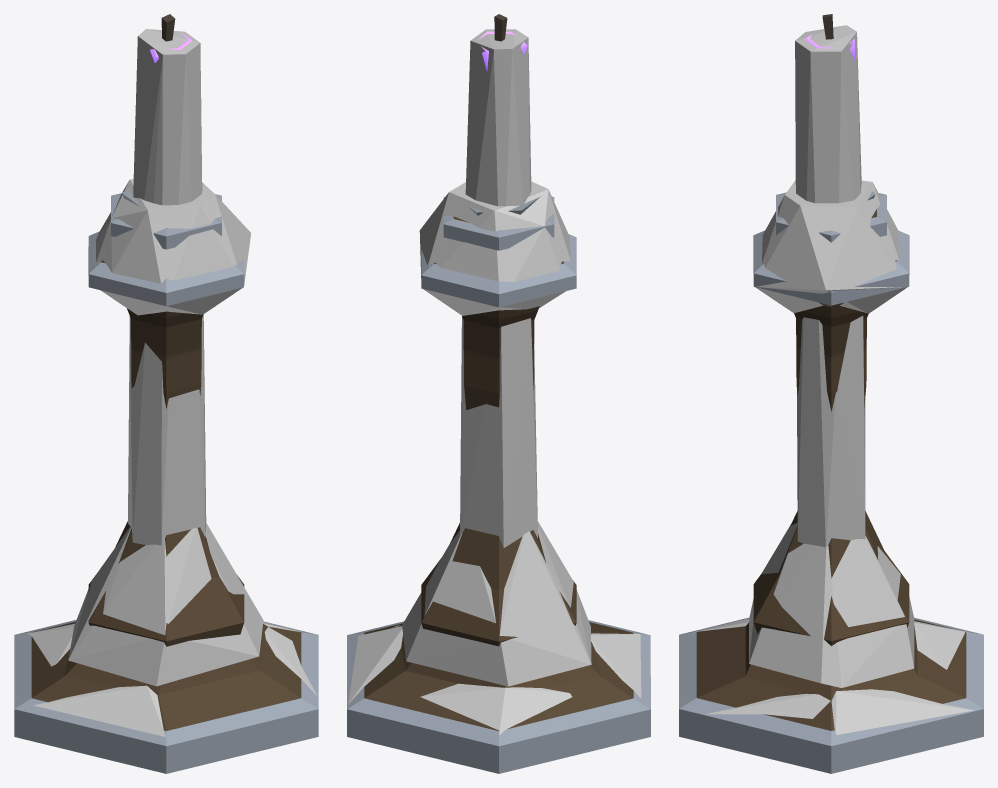
Rendered from SM_Prop_Candle_Stand_02.fbx.
3 views of the same model, side by side, from view 1: azimuth 30°, elevation 25°; view 2: azimuth 150°, elevation 25°; view 3: azimuth 270°, elevation 25° (orthographic).
Visible parts, largest first — view 1: SM_Prop_Candle_Stand_02_ConvexHulls, SM_Prop_Candle_Stand_02; view 2: SM_Prop_Candle_Stand_02_ConvexHulls, SM_Prop_Candle_Stand_02; view 3: SM_Prop_Candle_Stand_02_ConvexHulls, SM_Prop_Candle_Stand_02.
Boxes of the visible parts, x1=… form: SM_Prop_Candle_Stand_02_ConvexHulls: x1=27, y1=29, x2=317, y2=736; SM_Prop_Candle_Stand_02: x1=14, y1=14, x2=318, y2=773; SM_Prop_Candle_Stand_02_ConvexHulls: x1=348, y1=29, x2=641, y2=734; SM_Prop_Candle_Stand_02: x1=347, y1=14, x2=650, y2=773; SM_Prop_Candle_Stand_02_ConvexHulls: x1=692, y1=25, x2=973, y2=734; SM_Prop_Candle_Stand_02: x1=679, y1=14, x2=983, y2=773.
Bounding box in the file's own units: 37.68 × 32.61 × 81.71.
Materials: 2 (1 with a texture image).
